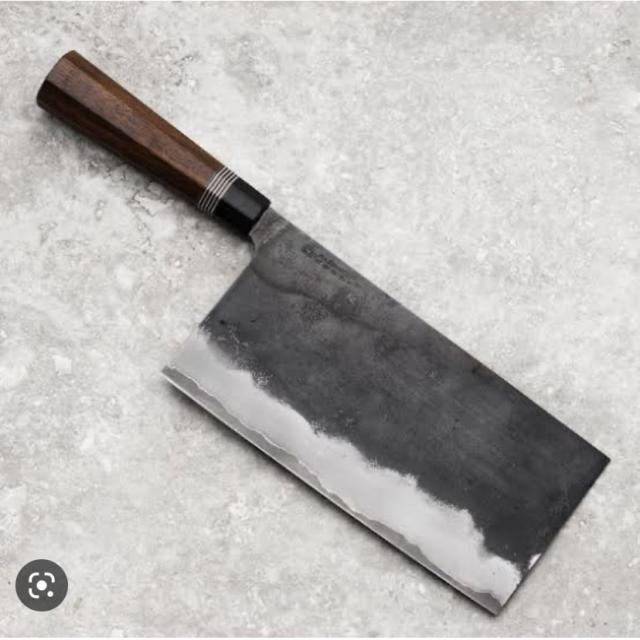Knife: (15, 25, 635, 632)
